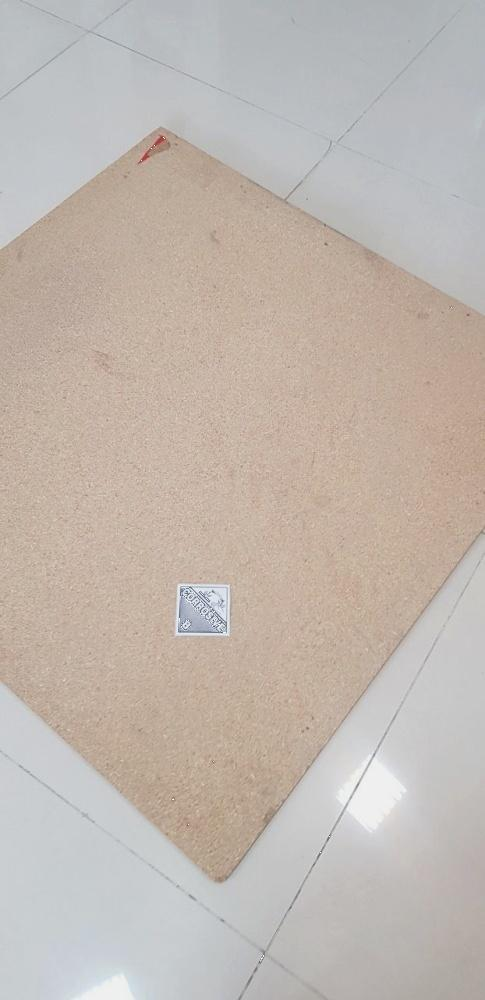corrosive: (173, 583, 232, 638)
